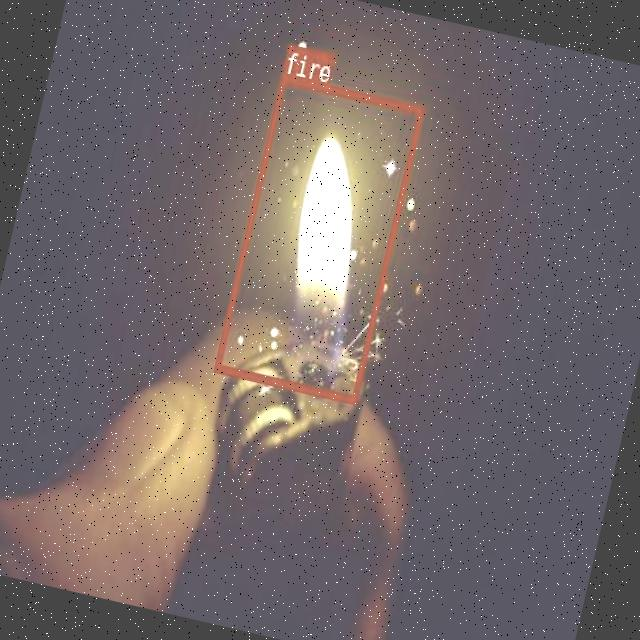fire: (212, 72, 424, 402)
